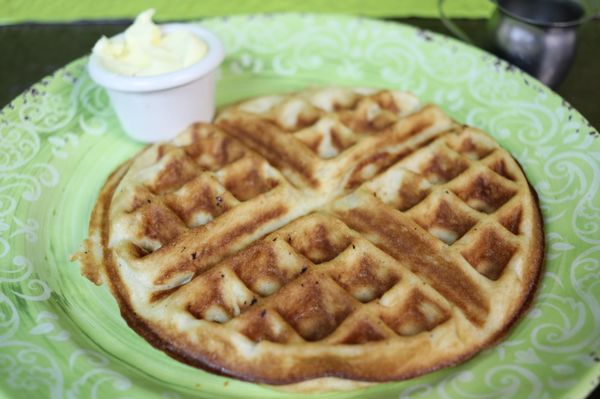sushi: (85, 11, 225, 145)
